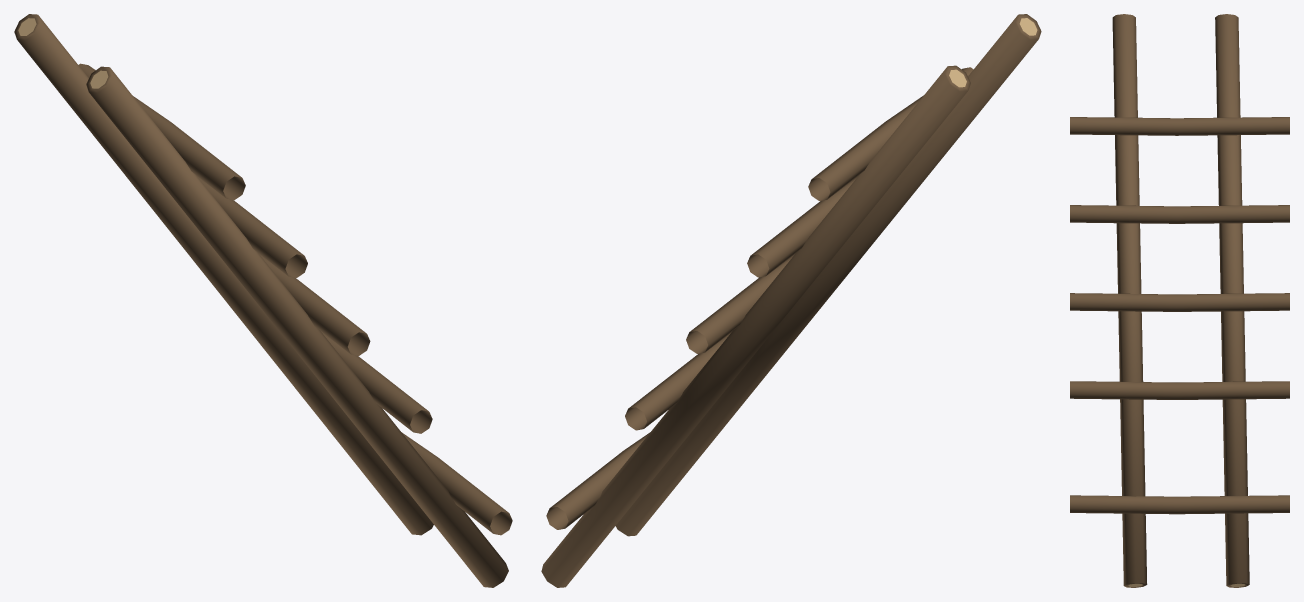
File: rpgpp_ag_roof_support_01_6x5x3_roof_01b_half_b.fbx
The picture shows the model from 3 angles, left to right: view 1: azimuth 30°, elevation 25°; view 2: azimuth 150°, elevation 25°; view 3: azimuth 270°, elevation 25°; orthographic projection. The views are drawn at different scales.
Visible parts, largest first — view 1: rpgpp_ag_roof_support_01_6x5x3_roof_01b_half_b; view 2: rpgpp_ag_roof_support_01_6x5x3_roof_01b_half_b; view 3: rpgpp_ag_roof_support_01_6x5x3_roof_01b_half_b.
Boxes of the visible parts, x1,y1,x2,y2 form: rpgpp_ag_roof_support_01_6x5x3_roof_01b_half_b: (14,14,512,587); rpgpp_ag_roof_support_01_6x5x3_roof_01b_half_b: (541,14,1041,587); rpgpp_ag_roof_support_01_6x5x3_roof_01b_half_b: (1070,14,1289,587).
Size of the model in its own units: 4.78 by 6.64 by 3.
